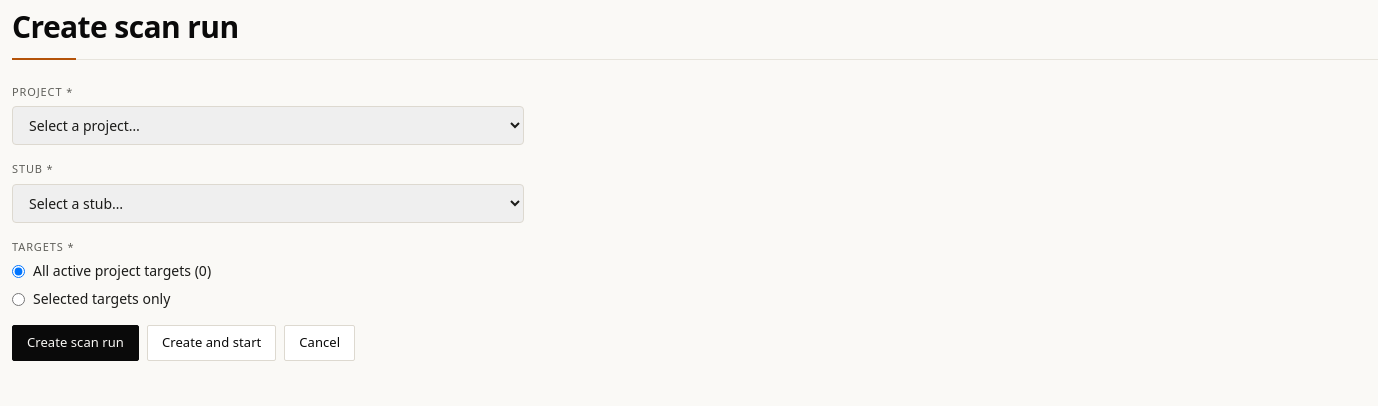
Test: CreateScanRun — validation › switches back from 'selected only' to 'all active'
Select "Local Lab" in the dropdown labelled "Project *" at (268, 126), box top-left (12, 106), bottom-right (524, 145)
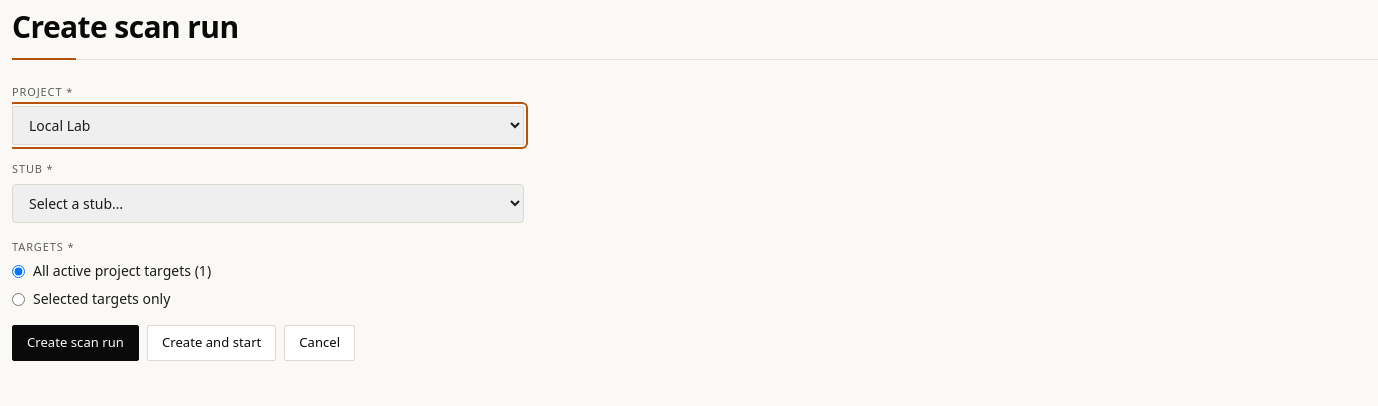
Select "1.1 · Framework detection" in the dropdown labelled "Stub *" at (268, 203), box top-left (12, 184), bottom-right (524, 222)
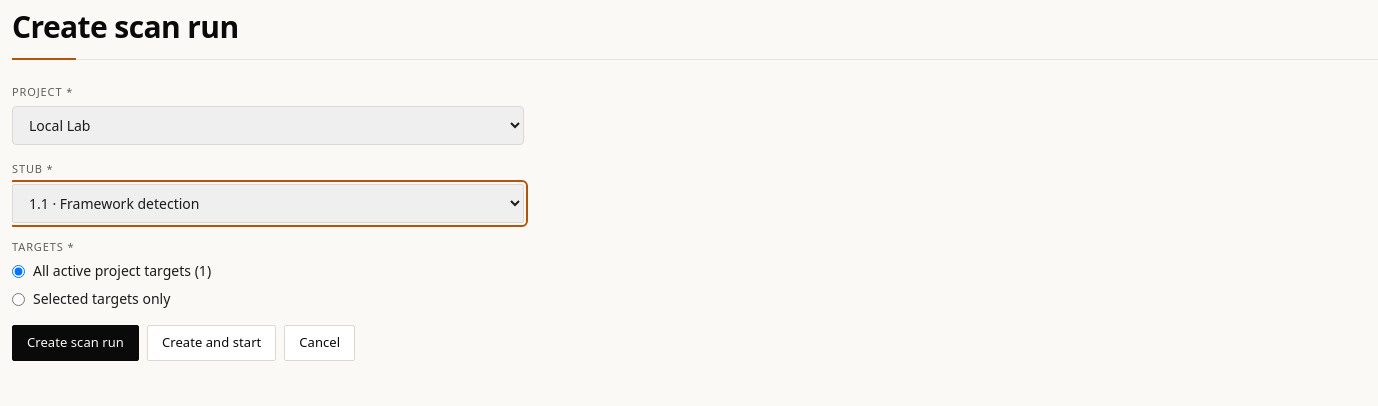
Click the radio button labelled "Selected targets only" at (18, 299), box top-left (12, 292), bottom-right (25, 306)
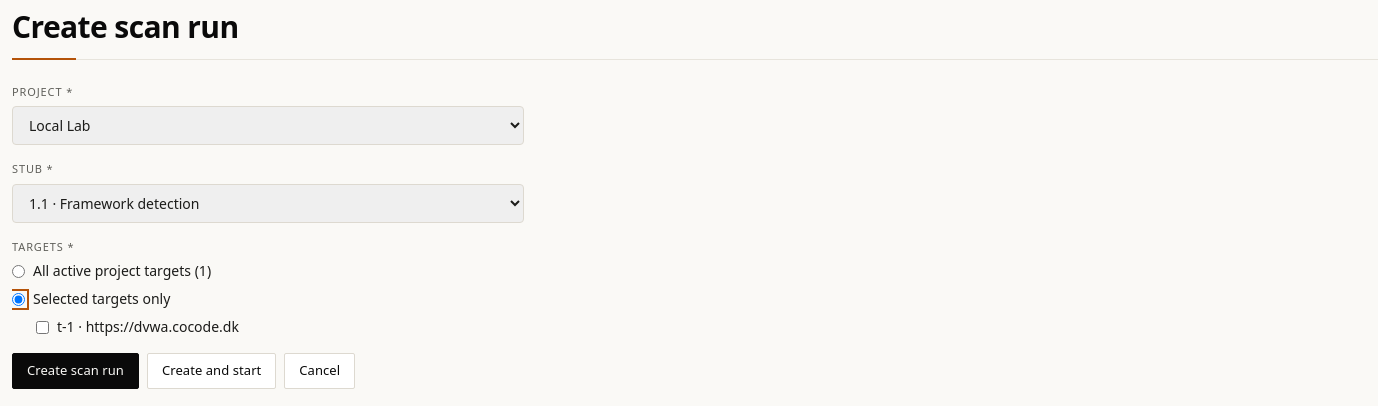
Now the checkbox labelled "t-1 · https://dvwa.cocode.dk" is shown, box top-left (36, 320), bottom-right (49, 334)
Click the radio button labelled "All active project targets (1)" at (18, 271), box top-left (12, 264), bottom-right (25, 278)
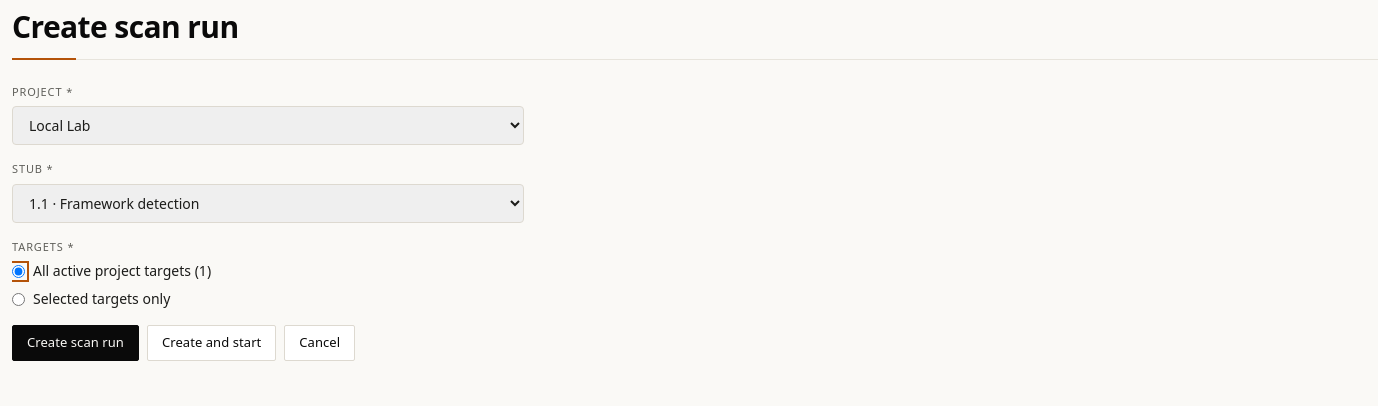
Now the label "t-1" is gone
